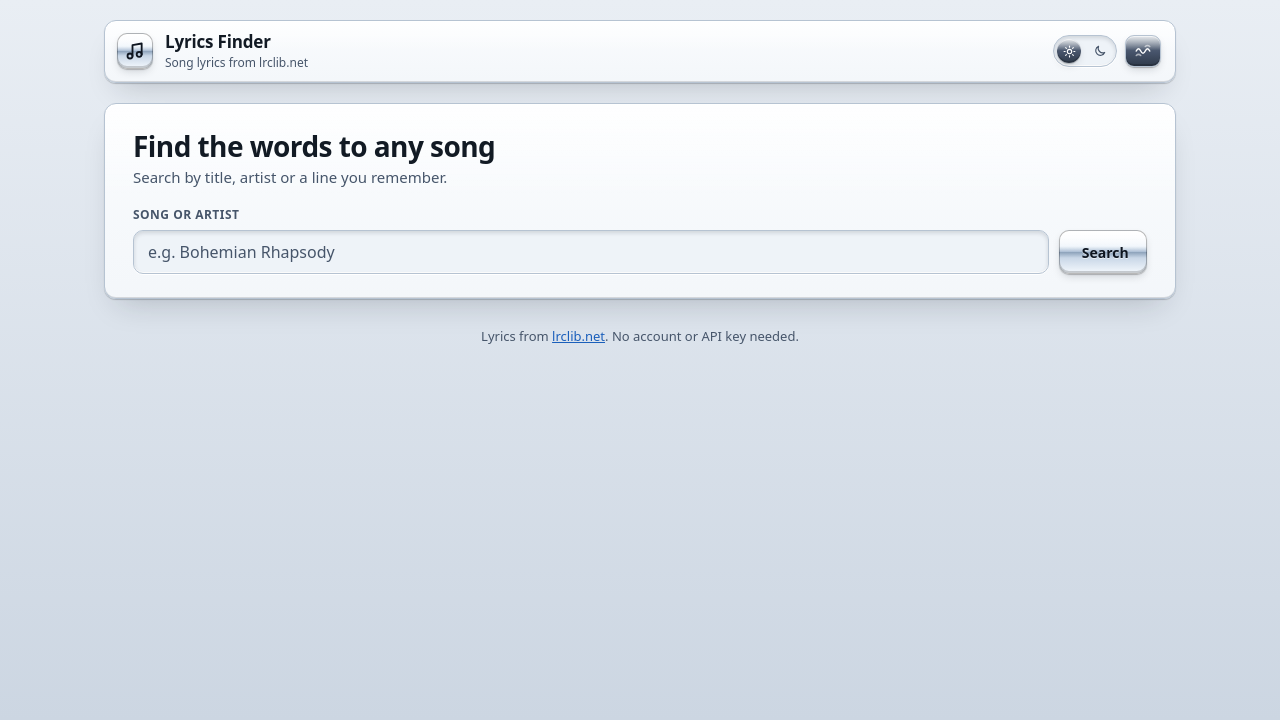
Test: search › shows results after typing
This screenshot has width=1280, height=720.
Type "hello" into the search field labelled "Song or artist" at coordinates (591, 252), box 133,230 -> 1049,274
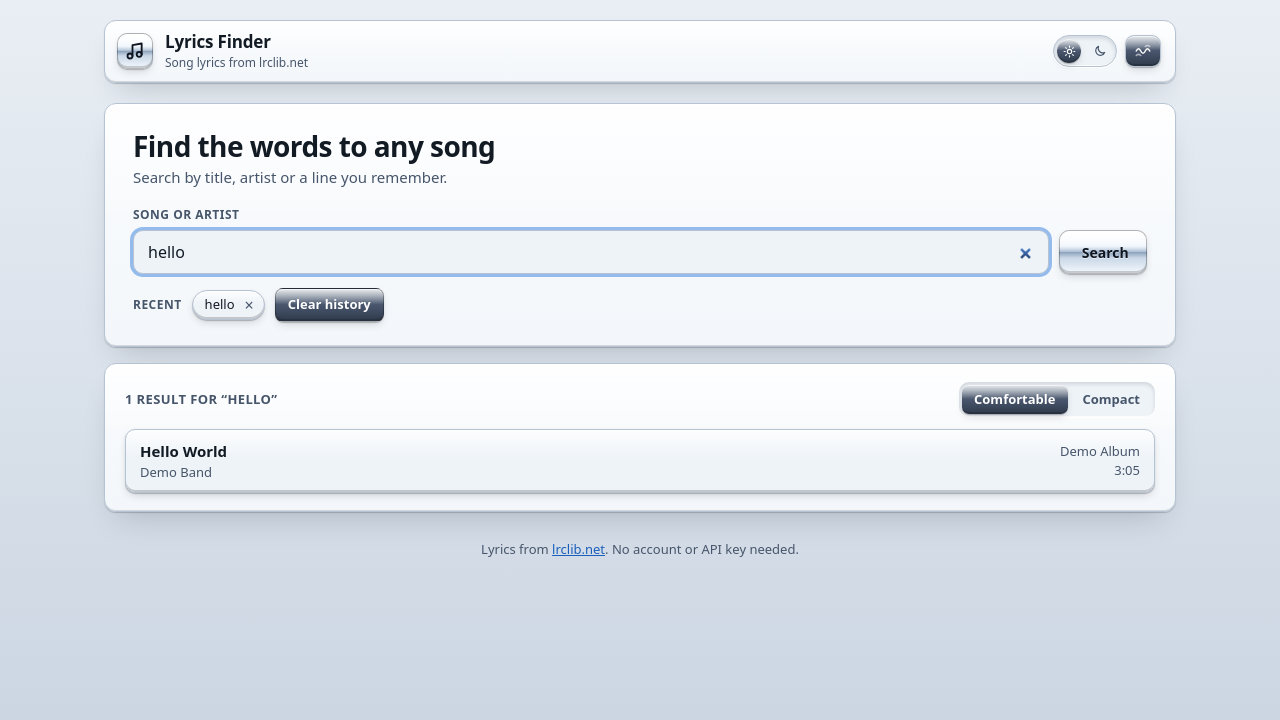
Expected: the text "Hello World" is shown, 140,440 -> 227,463
Expected: the heading "1 result for “hello”" is shown, 125,390 -> 278,409
